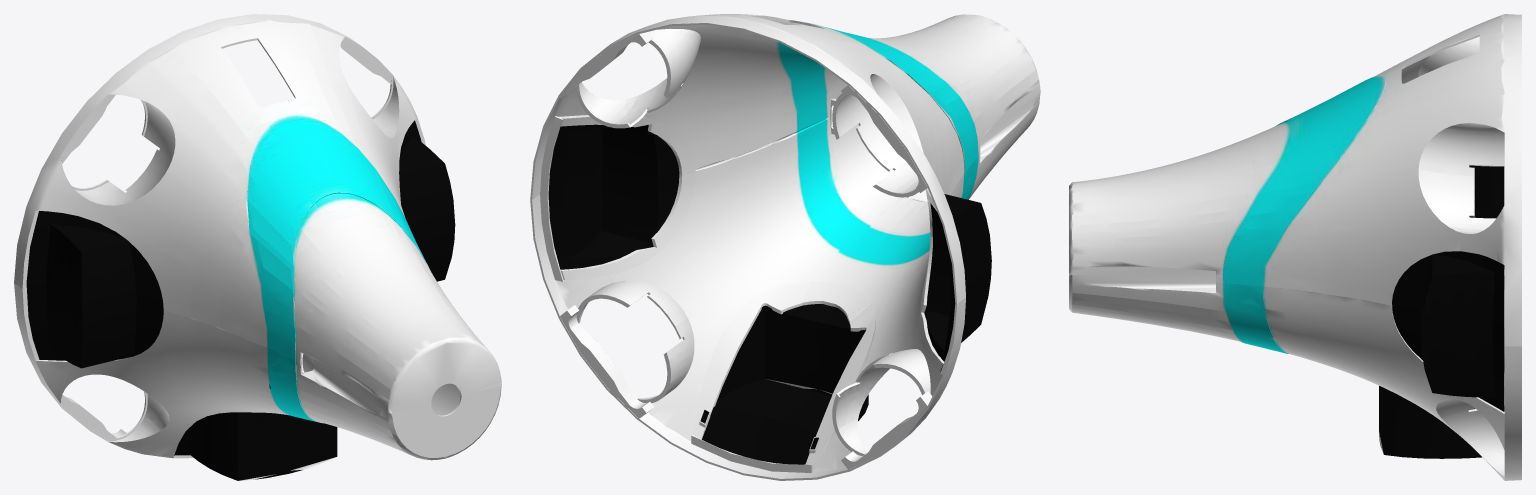
The model's file is bottomcovers.dae.
3 renders of one model, left to right at view 1: azimuth 30°, elevation 25°; view 2: azimuth 150°, elevation 25°; view 3: azimuth 270°, elevation 25°, orthographic. The views are drawn at different scales.
Visible parts, largest first — view 1: onderkantversiekrisreduced; view 2: onderkantversiekrisreduced; view 3: onderkantversiekrisreduced.
Boxes of the visible parts, left/top/right/bottom form: onderkantversiekrisreduced: left=14, top=14, right=501, bottom=480; onderkantversiekrisreduced: left=530, top=14, right=1040, bottom=480; onderkantversiekrisreduced: left=1069, top=14, right=1521, bottom=480.
Size of the model in its own units: 1737 by 1737 by 1684.
Materials: 1 (1 with a texture image).
